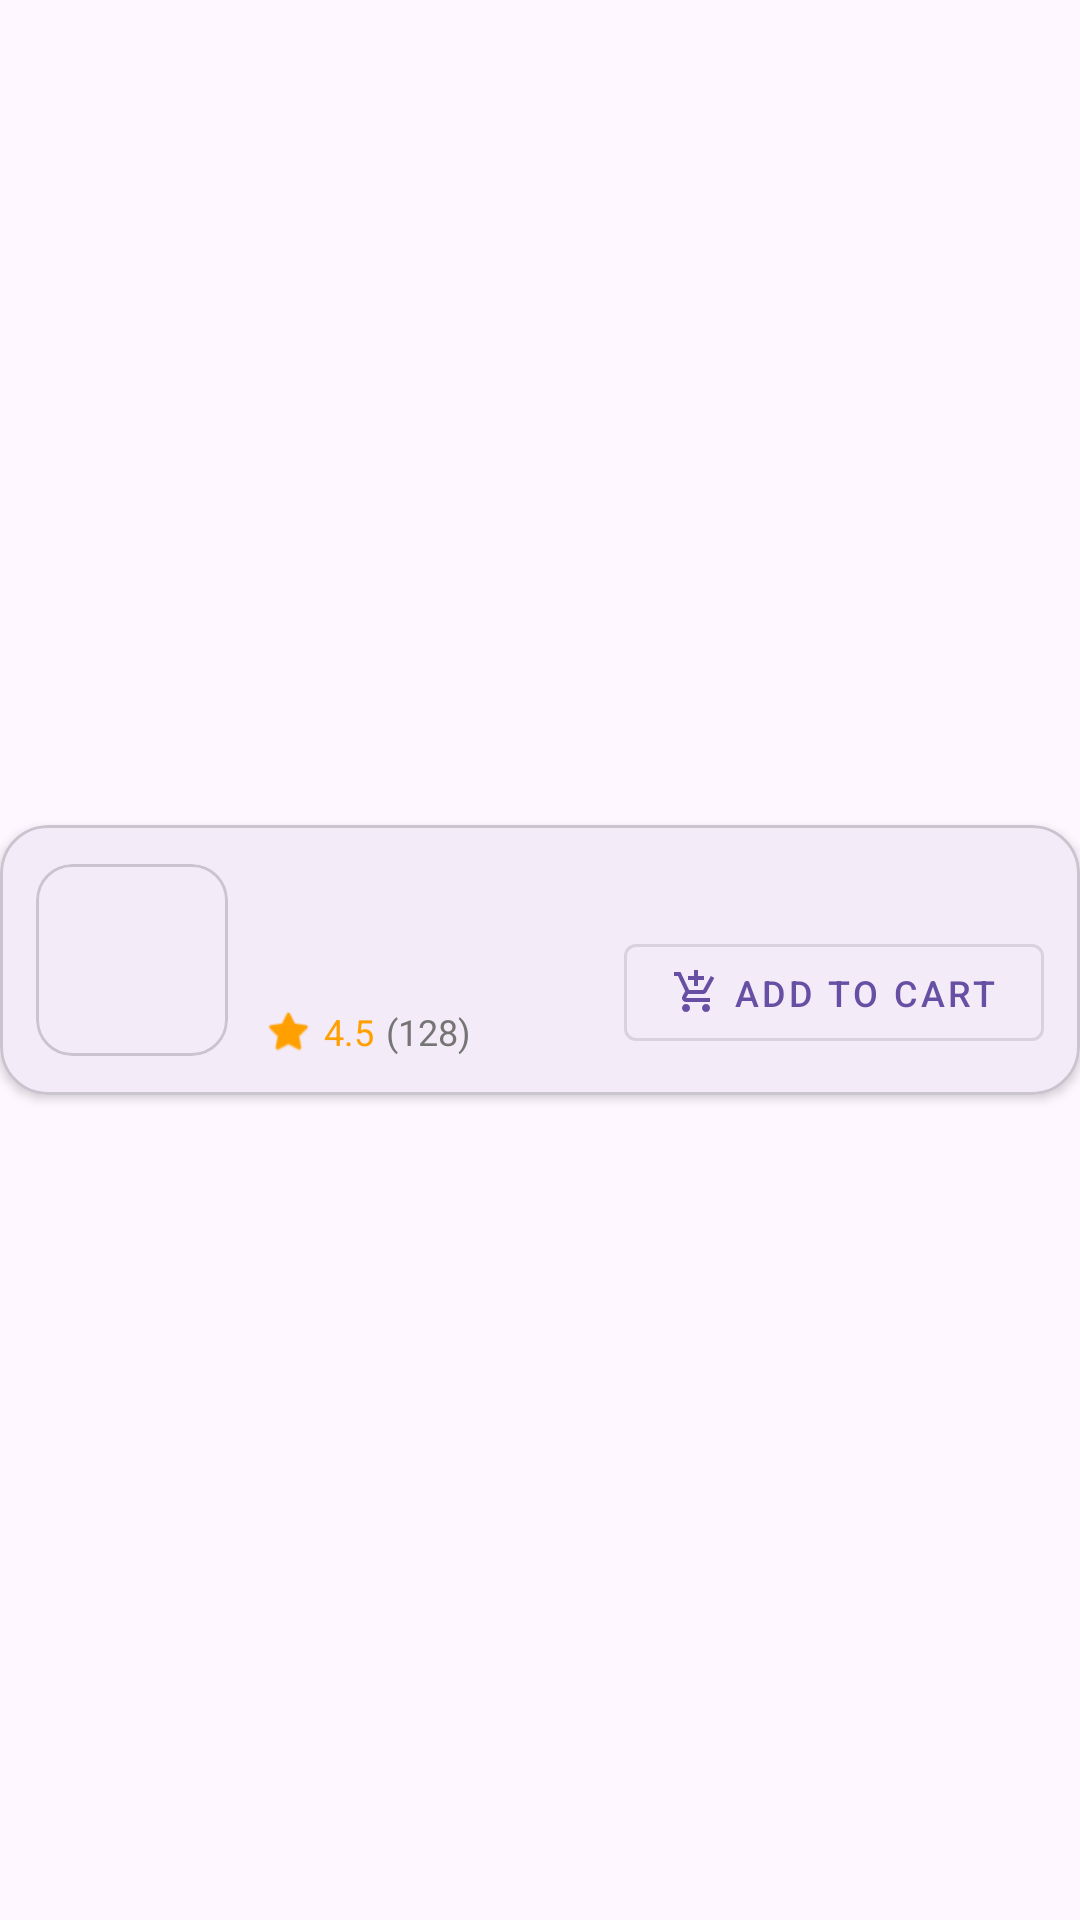

Icon click points for this 1080 x 1920 phone screenshot, format (x=x, y=y):
star on: (x=288, y=1031)
